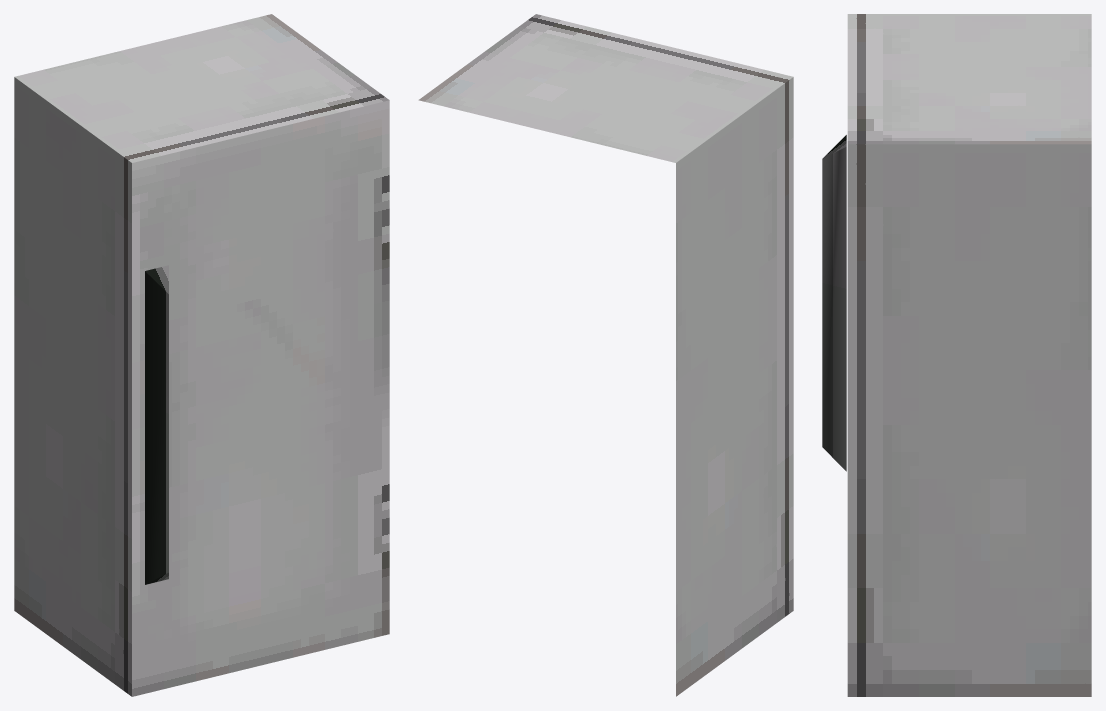
The model's file is Cupboard_Long.glb.
3 renders of one model, left to right at view 1: azimuth 30°, elevation 25°; view 2: azimuth 150°, elevation 25°; view 3: azimuth 270°, elevation 25°, orthographic. The views are drawn at different scales.
Parts seen in each view (by area): view 1: CUPBOARD_LONG; view 2: CUPBOARD_LONG; view 3: CUPBOARD_LONG.
Part boxes in pixels (x1,y1,x2,y2): CUPBOARD_LONG: (14, 14, 389, 696); CUPBOARD_LONG: (418, 14, 793, 696); CUPBOARD_LONG: (822, 14, 1091, 696).
Bounding box in the file's own units: 0.505 × 1 × 0.442.
1 material, 1 textured.
